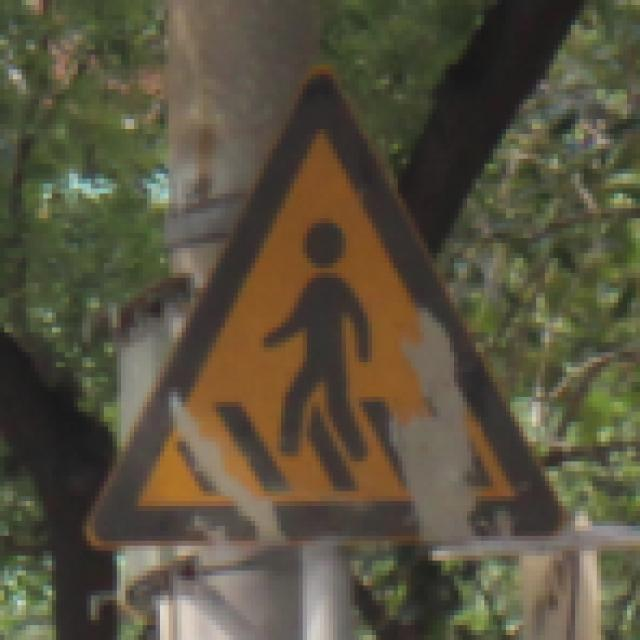Crossing: (77, 66, 579, 556)
